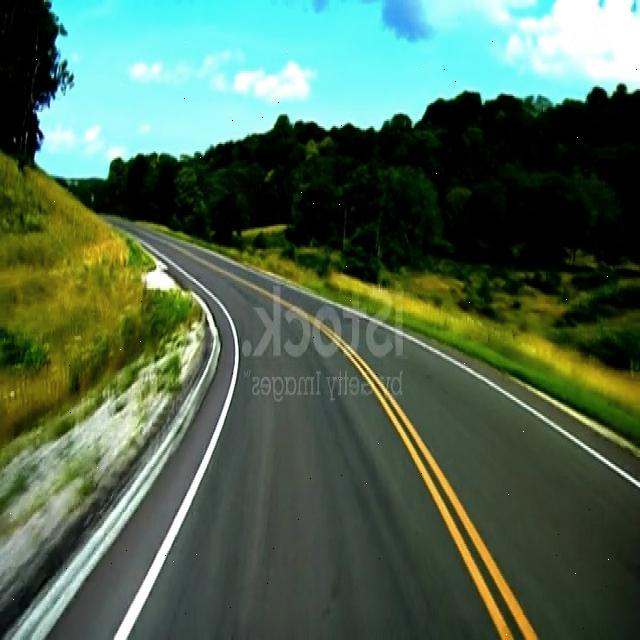lane: (274, 290, 537, 638), (340, 338, 511, 639), (115, 260, 239, 638), (405, 337, 639, 488), (450, 493, 538, 637)
road: (52, 219, 640, 636)
